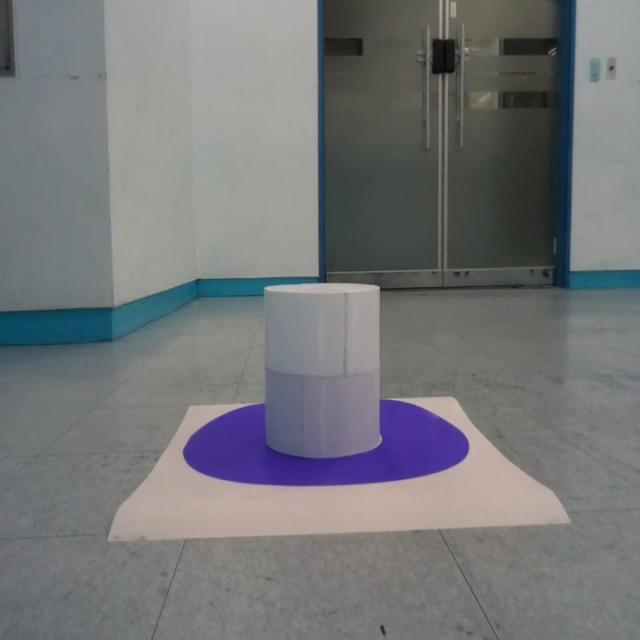cylinder: (264, 282, 382, 459)
